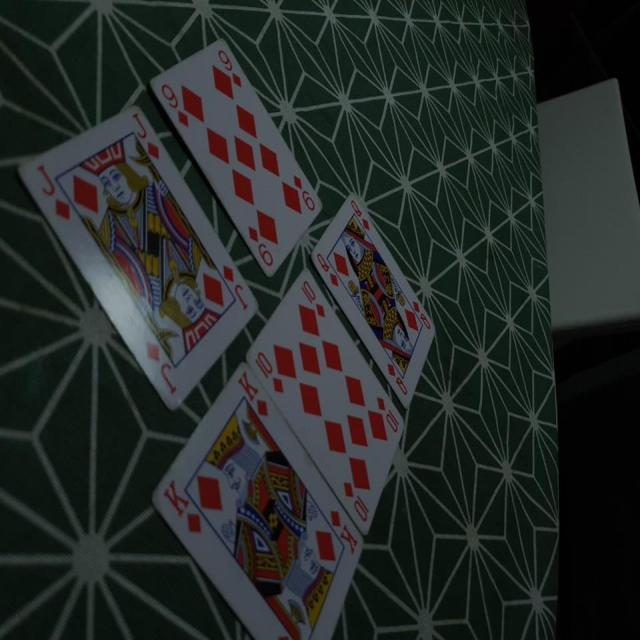10 Diamonds: (242, 264, 405, 535)
9 Diamonds: (148, 39, 322, 278)
J Diamonds: (15, 102, 260, 415)
K Diamonds: (148, 359, 363, 640)
Q Diamonds: (308, 189, 436, 410)
